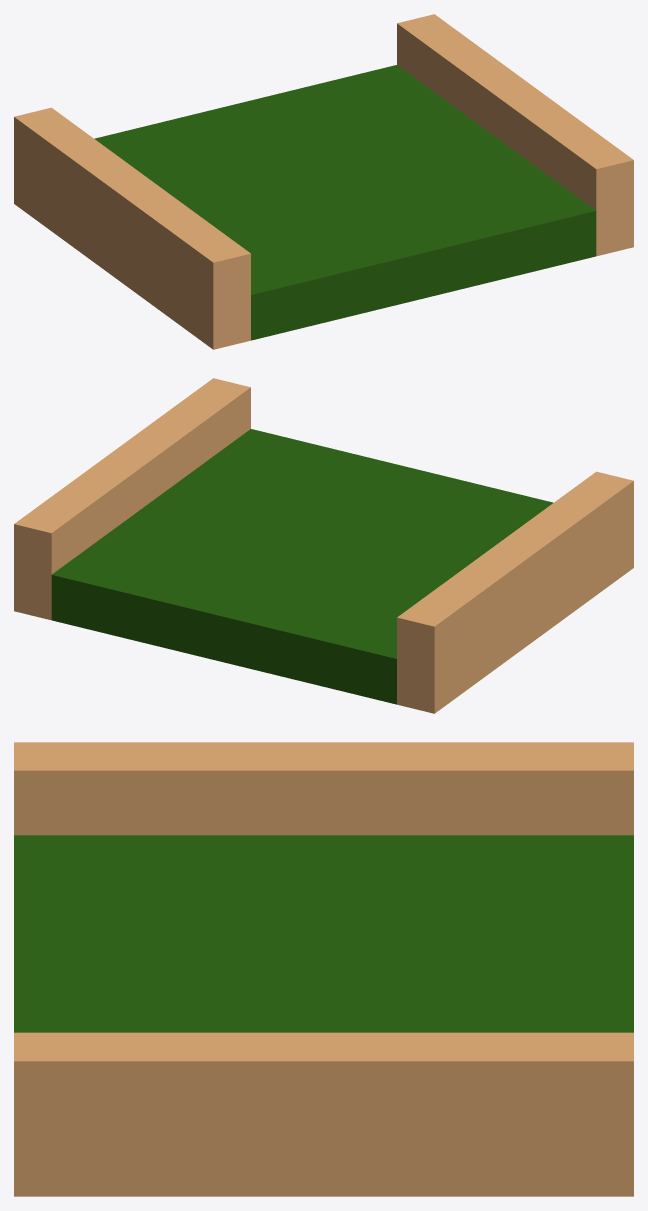
The model's file is NewLego5.fbx.
The picture shows the model from 3 angles, top to bottom: view 1: azimuth 30°, elevation 25°; view 2: azimuth 150°, elevation 25°; view 3: azimuth 270°, elevation 25°; orthographic projection. The views are drawn at different scales.
Parts seen in each view (by area): view 1: Cube.072, Cube.055; view 2: Cube.072, Cube.055; view 3: Cube.055, Cube.072.
Boxes of the visible parts, x1=… form: Cube.072: x1=94, y1=65, x2=596, y2=340; Cube.055: x1=14, y1=14, x2=633, y2=349; Cube.072: x1=51, y1=429, x2=553, y2=704; Cube.055: x1=14, y1=378, x2=633, y2=713; Cube.055: x1=14, y1=742, x2=633, y2=1196; Cube.072: x1=14, y1=835, x2=633, y2=1032.
Size of the model in its own units: 220 by 43.6 by 181.
